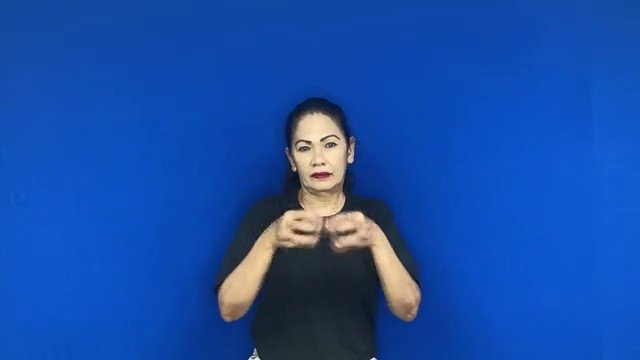egg: (260, 202, 377, 259)
